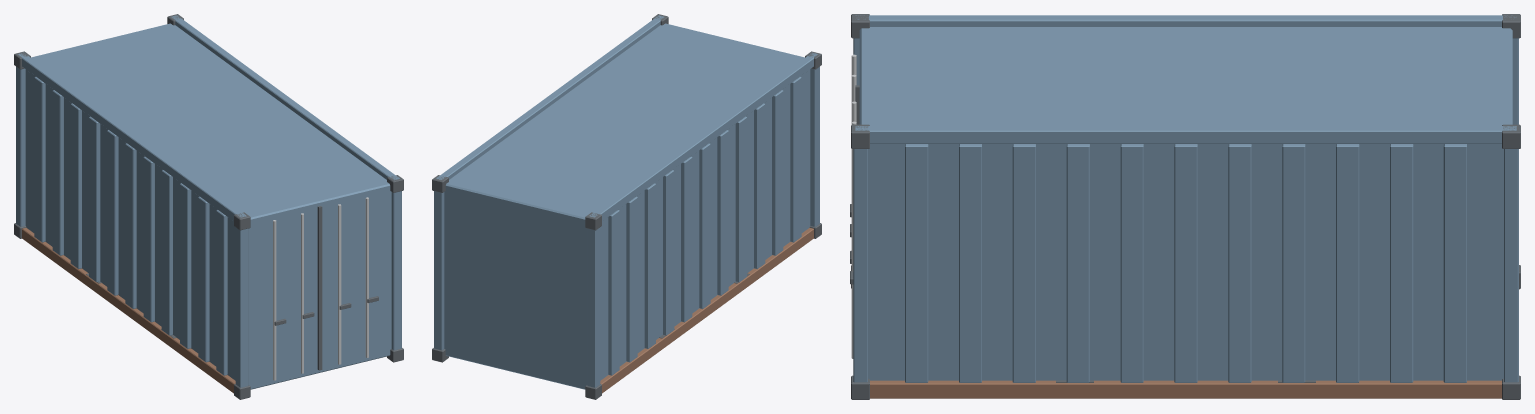
File: ship_container.glb
3 views of the same model, side by side, from view 1: azimuth 30°, elevation 25°; view 2: azimuth 150°, elevation 25°; view 3: azimuth 270°, elevation 25° (orthographic). The views are drawn at different scales.
Visible parts, largest first — view 1: CoreBody, TopRail_-1.24, BotRail_-1.24, TopRail_1.24, Post_-1.24_-3.08, SideRib_-1.26_4, SideRib_-1.26_0, SideRib_-1.26_1, SideRib_-1.26_8, SideRib_-1.26_10, SideRib_-1.26_2, SideRib_-1.26_3 (+11 smaller); view 2: CoreBody, TopRail_-1.24, BotRail_-1.24, TopRail_1.24, Post_-1.24_3.08, SideRib_-1.26_6, SideRib_-1.26_0, SideRib_-1.26_2, SideRib_-1.26_9, SideRib_-1.26_10, SideRib_-1.26_1, SideRib_-1.26_3 (+6 smaller); view 3: CoreBody, TopRail_1.24, BotRail_1.24, TopRail_-1.24, SideRib_1.26_5, SideRib_1.26_6, SideRib_1.26_0, SideRib_1.26_2, SideRib_1.26_3, SideRib_1.26_4, SideRib_1.26_7, SideRib_1.26_8 (+7 smaller).
Boxes of the visible parts, x1,y1,x2,y2 form: CoreBody: (25,23,391,389); TopRail_-1.24: (18,52,246,221); BotRail_-1.24: (22,227,235,393); TopRail_1.24: (171,15,399,180); Post_-1.24_-3.08: (235,227,248,387); SideRib_-1.26_4: (143,156,154,322); SideRib_-1.26_0: (216,210,227,375); SideRib_-1.26_1: (198,196,209,362); SideRib_-1.26_8: (70,103,81,268); SideRib_-1.26_10: (34,77,45,242); SideRib_-1.26_2: (180,183,191,348); SideRib_-1.26_3: (161,170,172,335); CoreBody: (444,23,810,389); TopRail_-1.24: (589,52,817,221); BotRail_-1.24: (600,227,813,393); TopRail_1.24: (436,15,664,179); Post_-1.24_3.08: (587,227,600,387); SideRib_-1.26_6: (681,156,692,322); SideRib_-1.26_0: (790,77,801,242); SideRib_-1.26_2: (754,103,765,268); SideRib_-1.26_9: (626,196,637,362); SideRib_-1.26_10: (608,210,619,375); SideRib_-1.26_1: (772,90,783,255); SideRib_-1.26_3: (735,116,746,282); CoreBody: (859,27,1512,380); TopRail_1.24: (855,126,1516,143); BotRail_1.24: (870,380,1501,398); TopRail_-1.24: (855,15,1516,26); SideRib_1.26_5: (1174,144,1197,382); SideRib_1.26_6: (1228,144,1251,382); SideRib_1.26_0: (905,144,928,382); SideRib_1.26_2: (1012,144,1035,382); SideRib_1.26_3: (1066,144,1089,382); SideRib_1.26_4: (1120,144,1143,382); SideRib_1.26_7: (1282,144,1305,382); SideRib_1.26_8: (1336,144,1359,382).
Size of the model in its own units: 2.66 by 2.8 by 6.35.
